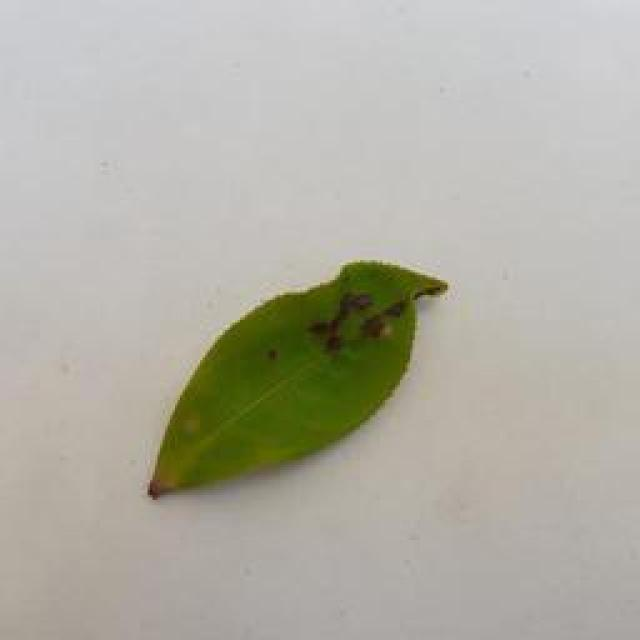Helopeltis: (148, 252, 446, 502)
